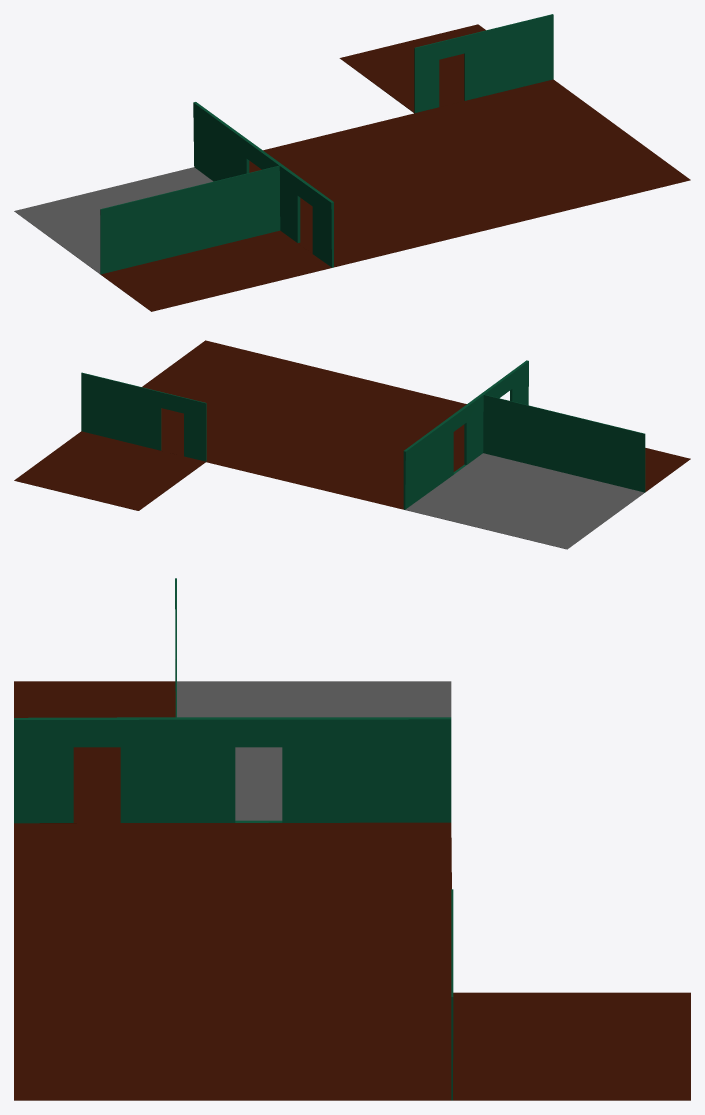
The model's file is first_floor.glb.
The picture shows the model from 3 angles, top to bottom: view 1: azimuth 30°, elevation 25°; view 2: azimuth 150°, elevation 25°; view 3: azimuth 270°, elevation 25°; orthographic projection. The views are drawn at different scales.
Visible parts, largest first — view 1: Plane; view 2: Plane; view 3: Plane.
Boxes of the visible parts, x1,y1,x2,y2 form: Plane: [14, 14, 690, 311]; Plane: [14, 340, 690, 549]; Plane: [14, 578, 690, 1100].
Size of the model in its own units: 50 by 5.8 by 34.16.
